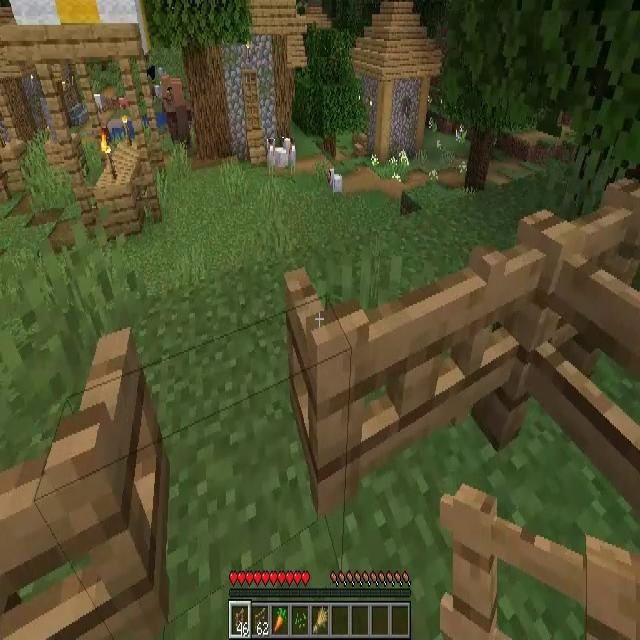duck: (275, 138, 295, 177), (267, 139, 281, 176), (327, 169, 342, 196)
